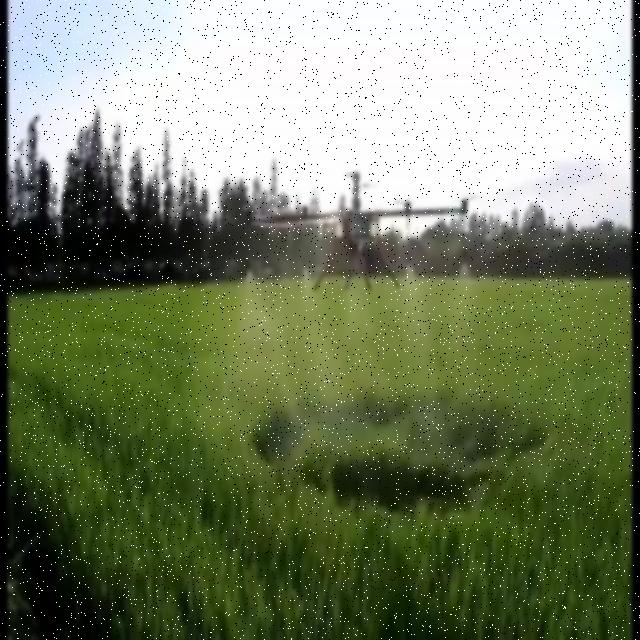UAV: (243, 167, 473, 289)
